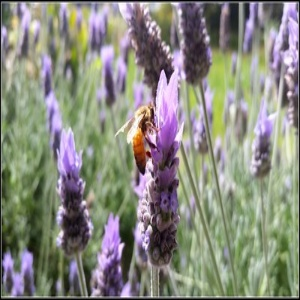bee: (128, 99, 160, 180)
